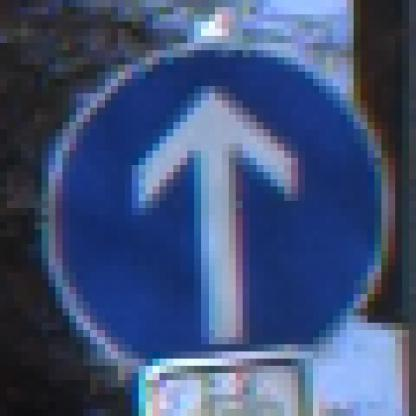AheadOnly: (36, 37, 382, 381)
